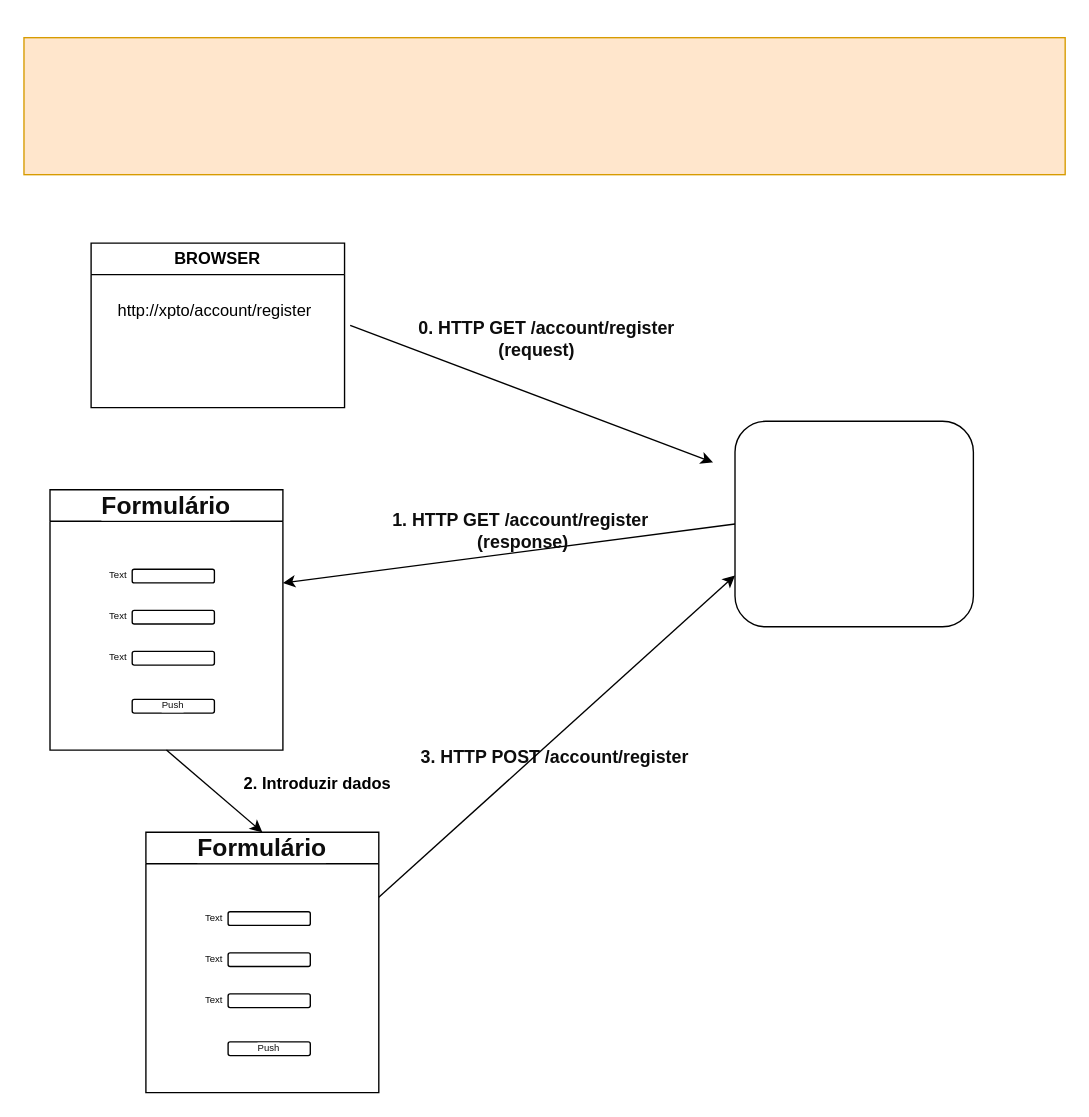
The diagram is 1089 pixels wide and 1117 high, and some of its shapes have lost their labels. The shapes that lost their labels are listed below. From the top down, each one's centre as x and y in pixels, then its label:
At pixel 544 105: "PADRÃO GET > POST > Redirect".
At pixel 853 523: "SERVIDOR WEB".
